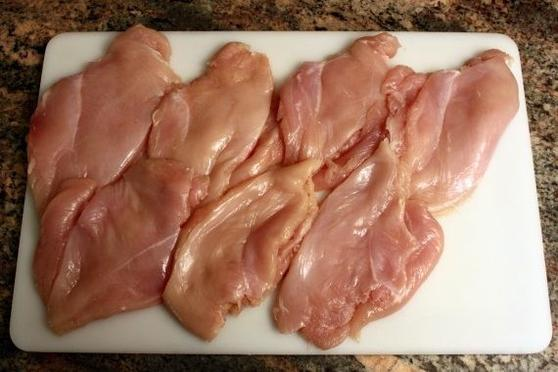chicken_fillet: (290, 124, 444, 347), (177, 158, 314, 339), (37, 28, 166, 220), (158, 43, 290, 204), (276, 37, 392, 183)
